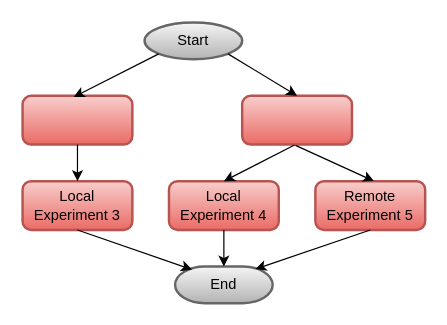
Some shapes in this 447 by 325 pixel diagram are drawn without their labels. Each missing label, with the centre of its shape:
Local Experiment 1: (x=77, y=119)
Local Experiment 2: (x=296, y=119)
